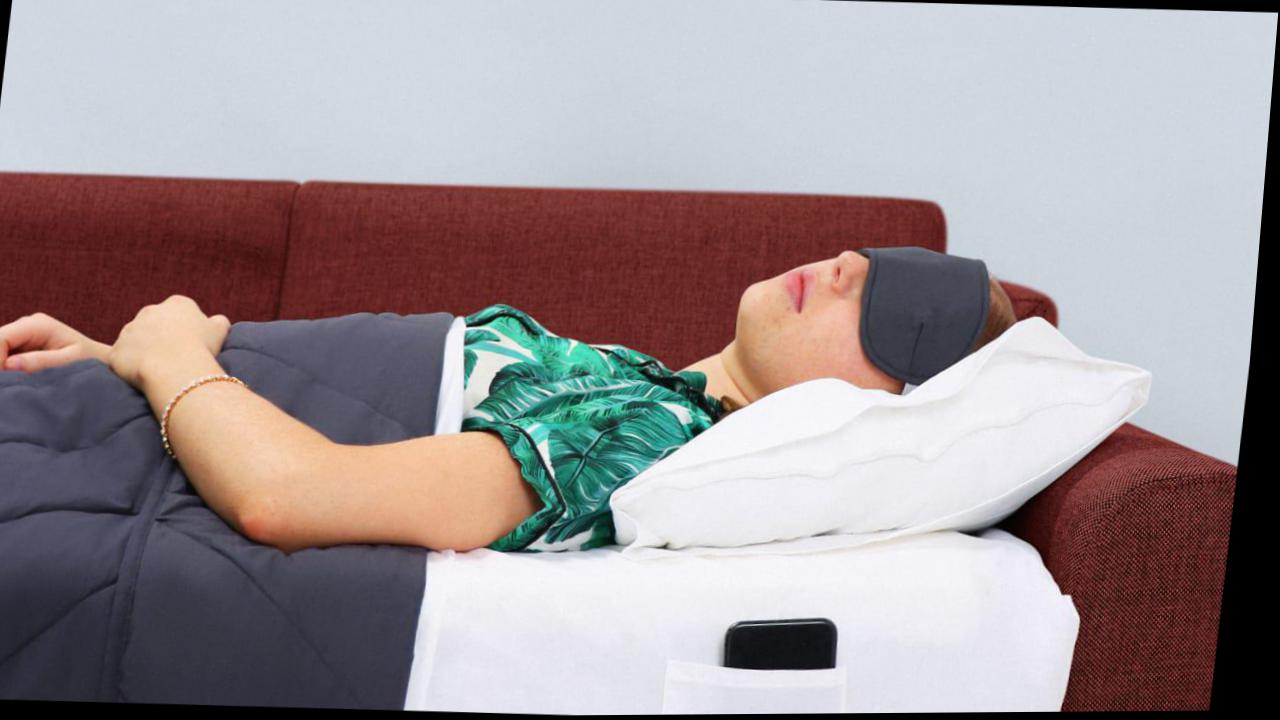WRONG: (736, 239, 966, 376)
